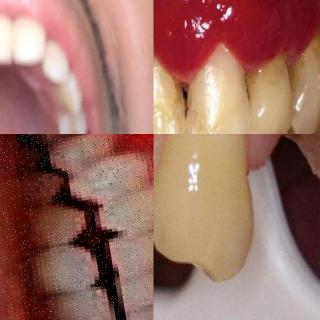Gum Swelling: (154, 14, 320, 85)
cavities: (154, 33, 162, 71)
plaque: (159, 74, 196, 124), (232, 68, 264, 104)
stains: (288, 31, 320, 113)
